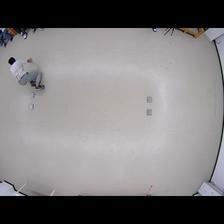fall: (7, 56, 46, 93)
